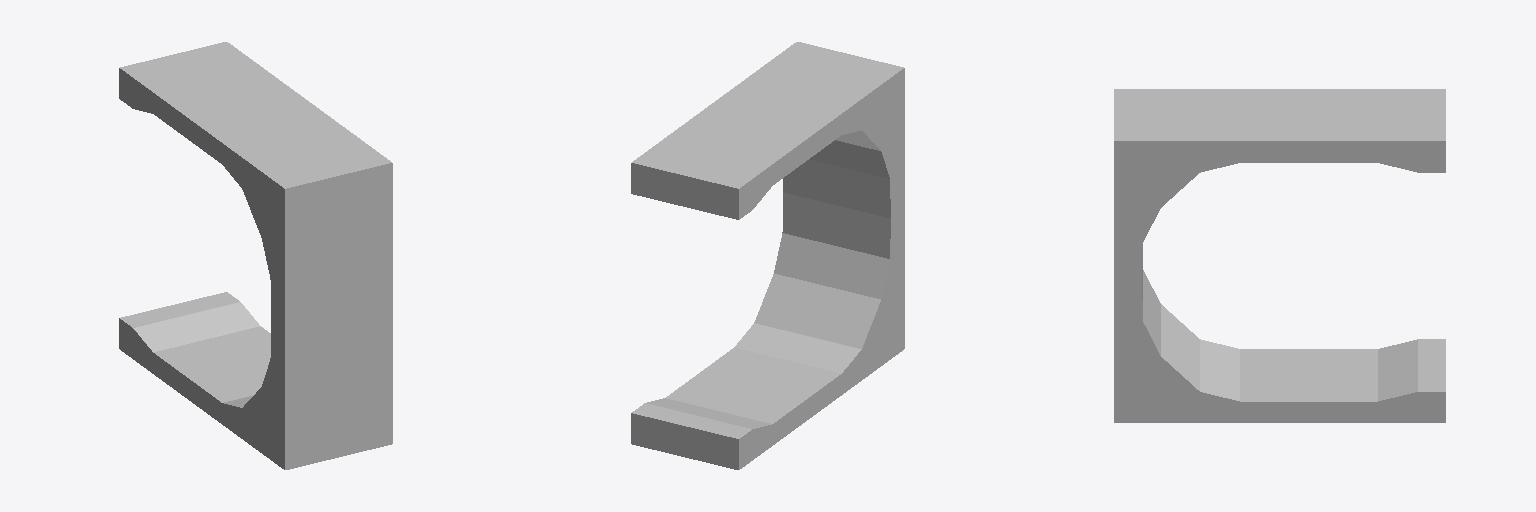
Rendered from headGuard.obj.
3 renders of one model, left to right at view 1: azimuth 30°, elevation 25°; view 2: azimuth 150°, elevation 25°; view 3: azimuth 270°, elevation 25°, orthographic.
Visible parts, largest first — view 1: Body1; view 2: Body1; view 3: Body1.
Part boxes in pixels (x1,y1,x2,y2): Body1: (119, 42, 392, 469); Body1: (631, 42, 904, 469); Body1: (1114, 89, 1445, 422).
Bounding box in the file's own units: 90 × 225 × 240.